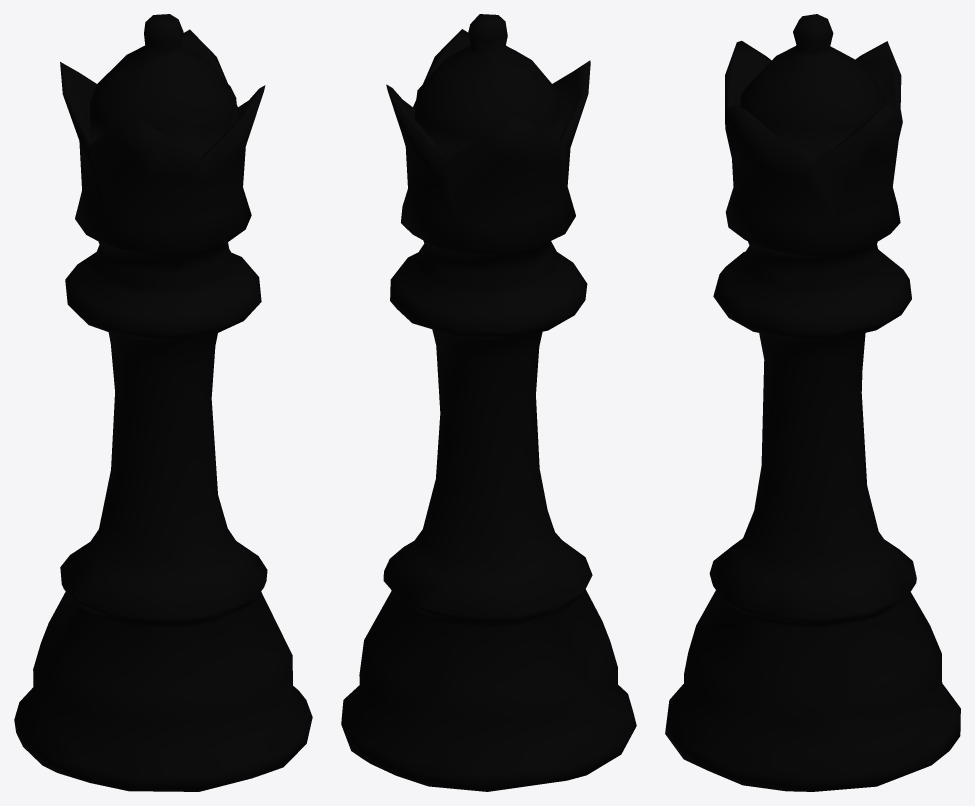
The model's file is ChessQueen.fbx.
3 renders of one model, left to right at view 1: azimuth 30°, elevation 25°; view 2: azimuth 150°, elevation 25°; view 3: azimuth 270°, elevation 25°, orthographic.
Visible parts, largest first — view 1: Queen; view 2: Queen; view 3: Queen.
Part boxes in pixels (x1,y1,x2,y2): Queen: (14, 14, 312, 791); Queen: (341, 14, 636, 791); Queen: (665, 14, 960, 791).
Bounding box in the file's own units: 135 × 359 × 135.
Materials: 1 (1 with a texture image).
